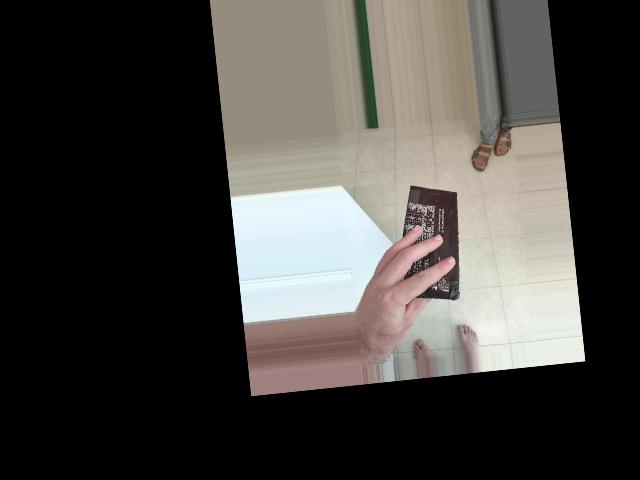chocolate: (399, 171, 534, 260)
